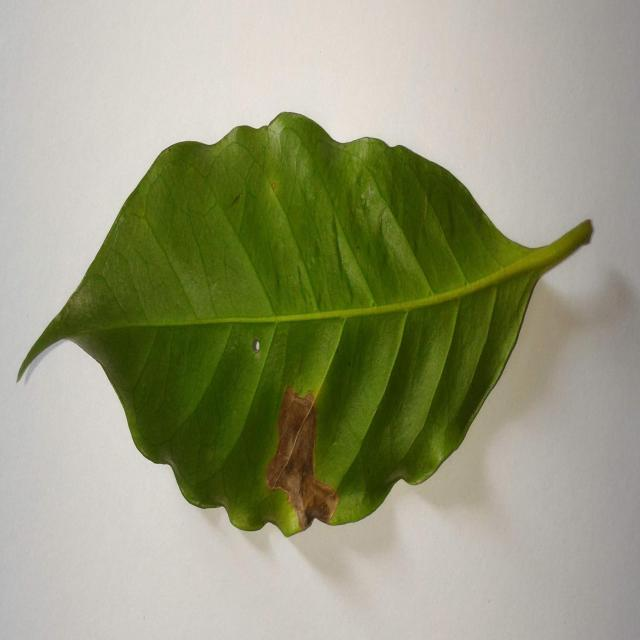miner: (266, 387, 339, 531)
